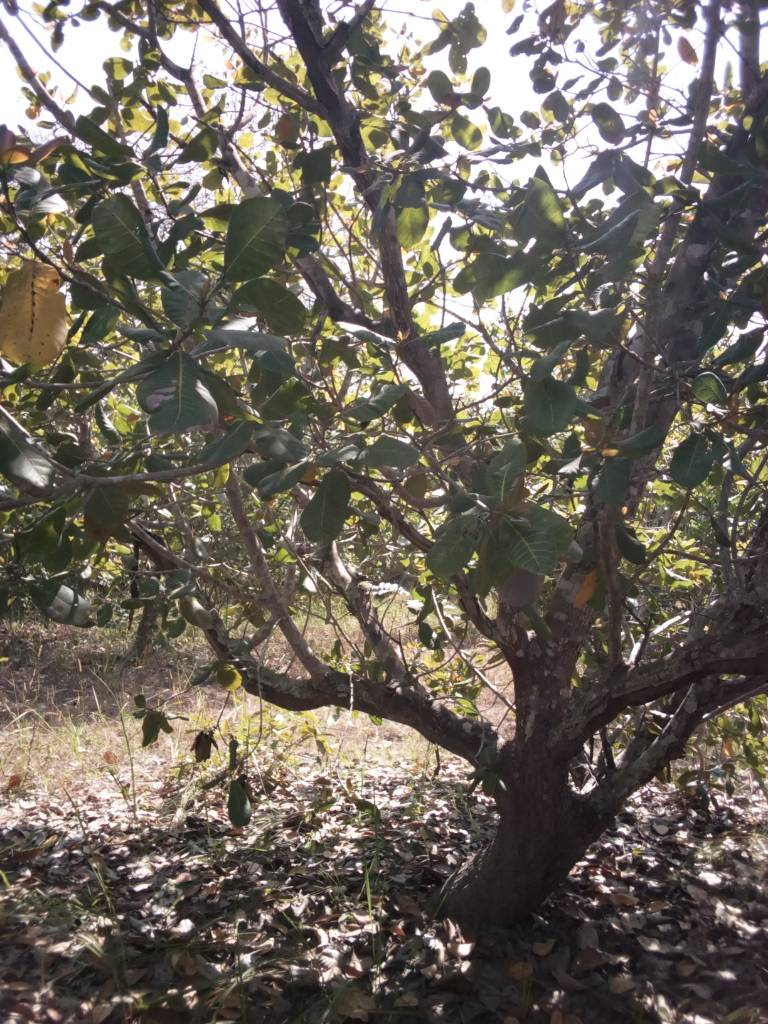Anthracnose: (1, 258, 72, 374)
